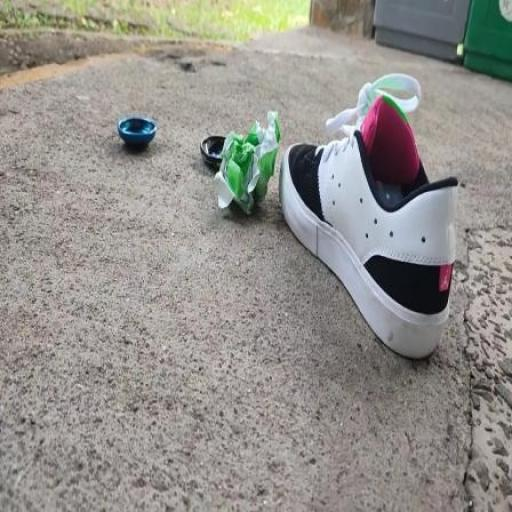paper: (187, 59, 291, 251)
